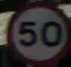Speed limit: (6, 1, 66, 60)
